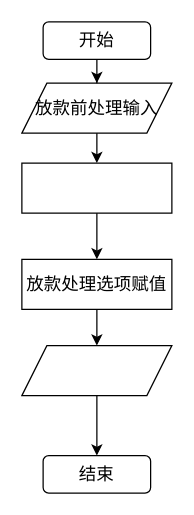
Some shapes in this 194 by 515 pixel diagram are drawn without their labels. The shapes that lost their labels are listed below. From the top down, each one's centre as x and y in pixels, then its label:
pixel 96 187: 放款准入检查
pixel 96 370: 放款前处理输出
